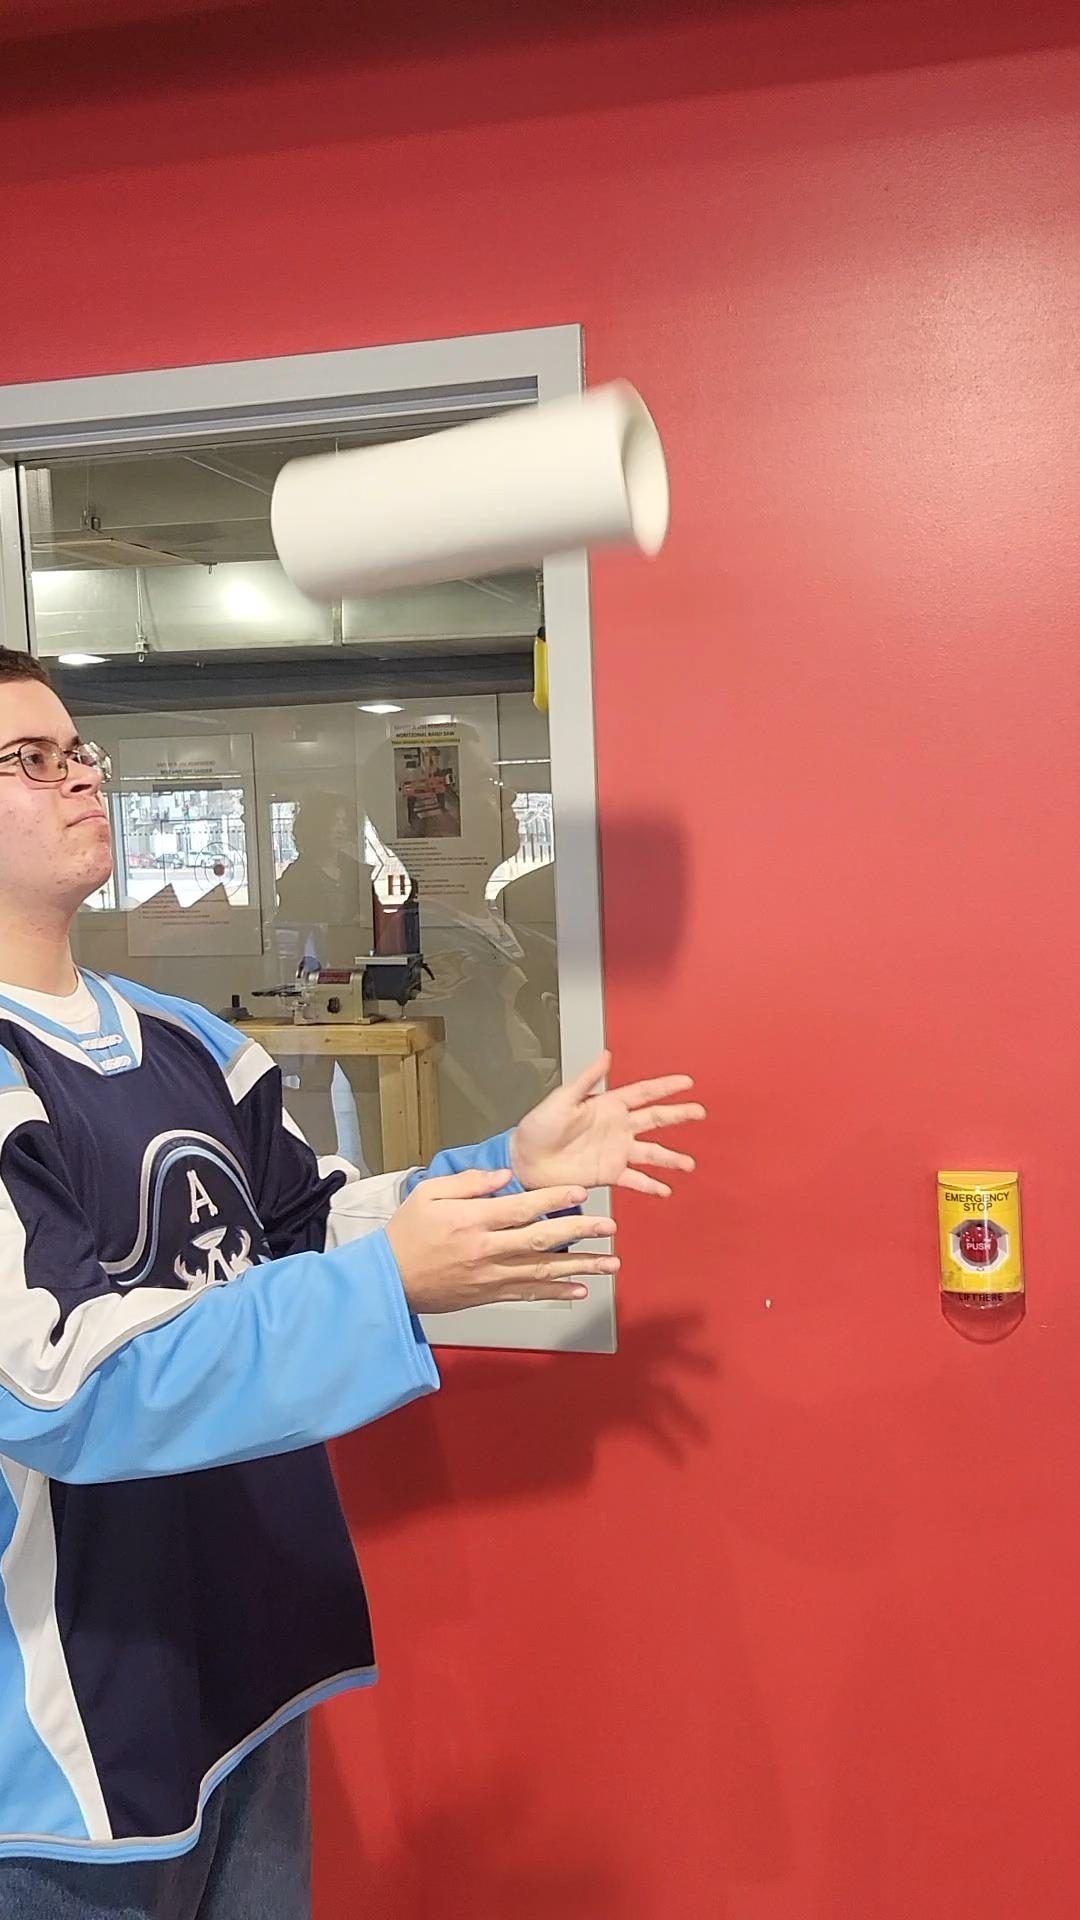coral: (264, 367, 683, 613)
